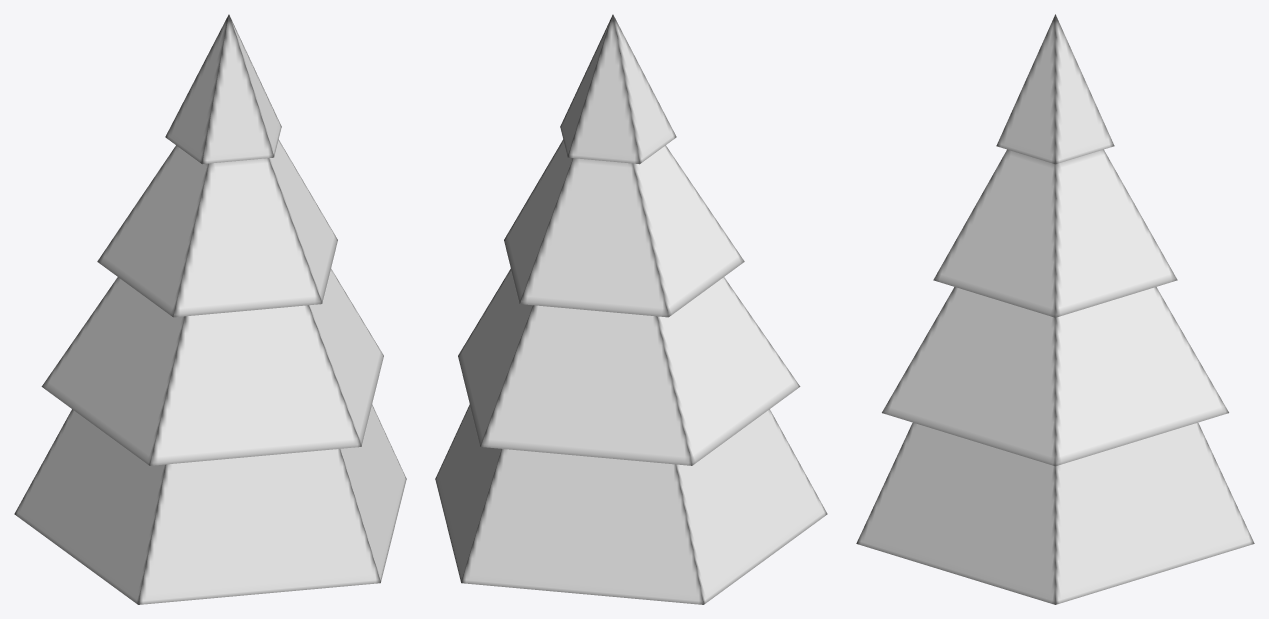
Rendered from Tree-04.fbx.
3 views of the same model, side by side, from view 1: azimuth 30°, elevation 25°; view 2: azimuth 150°, elevation 25°; view 3: azimuth 270°, elevation 25° (orthographic).
Parts seen in each view (by area): view 1: Tree_04; view 2: Tree_04; view 3: Tree_04.
Boxes of the visible parts, box(x1,y1,x2,y2) form: Tree_04: box(14, 14, 406, 604); Tree_04: box(435, 14, 827, 604); Tree_04: box(856, 14, 1254, 604).
Size of the model in its own units: 1.71 by 2.51 by 1.8.
